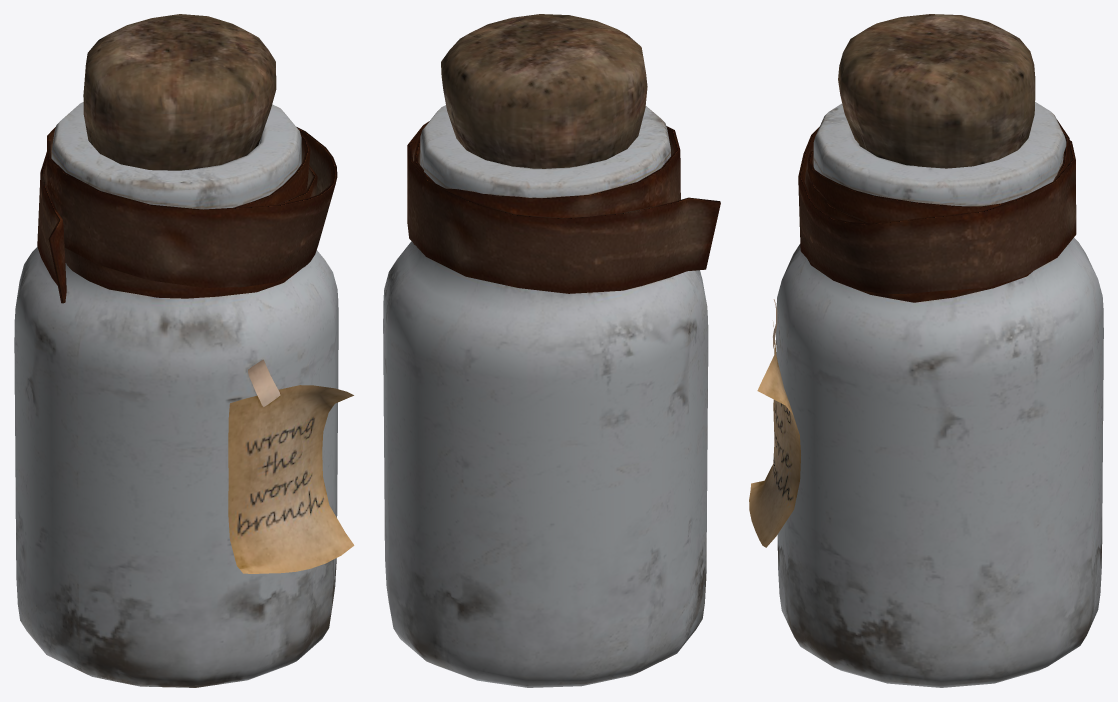
Rendered from Bottle03.fbx.
The picture shows the model from 3 angles, left to right: view 1: azimuth 30°, elevation 25°; view 2: azimuth 150°, elevation 25°; view 3: azimuth 270°, elevation 25°; orthographic projection.
Visible parts, largest first — view 1: KuJ AL Bottle 03.Shape; view 2: KuJ AL Bottle 03.Shape; view 3: KuJ AL Bottle 03.Shape.
Boxes of the visible parts, box(x1,y1,x2,y2) form: KuJ AL Bottle 03.Shape: box(14, 14, 354, 687); KuJ AL Bottle 03.Shape: box(383, 14, 720, 687); KuJ AL Bottle 03.Shape: box(749, 14, 1103, 687).
Size of the model in its own units: 17.74 by 34.44 by 18.54.
3 materials, 2 textured.
